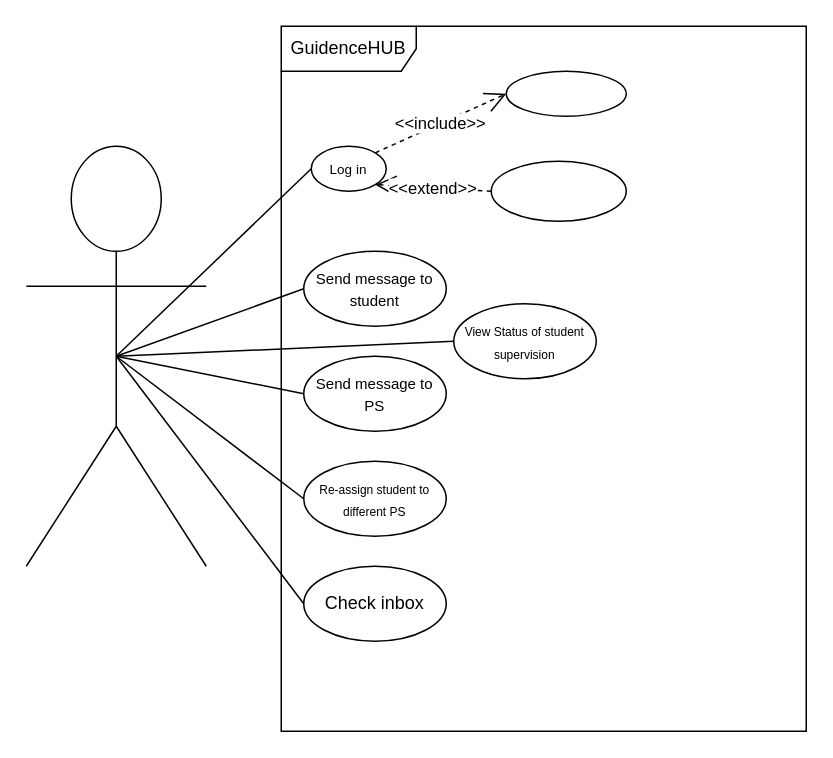
This 833x758 diagram has some shape labels left out. The centre of each missing label's shape, as x and y in pixels:
"Display Log in Error" goes at [558,190].
"Senior Tutor" goes at [115,355].
"Verify Password" goes at [565,93].
